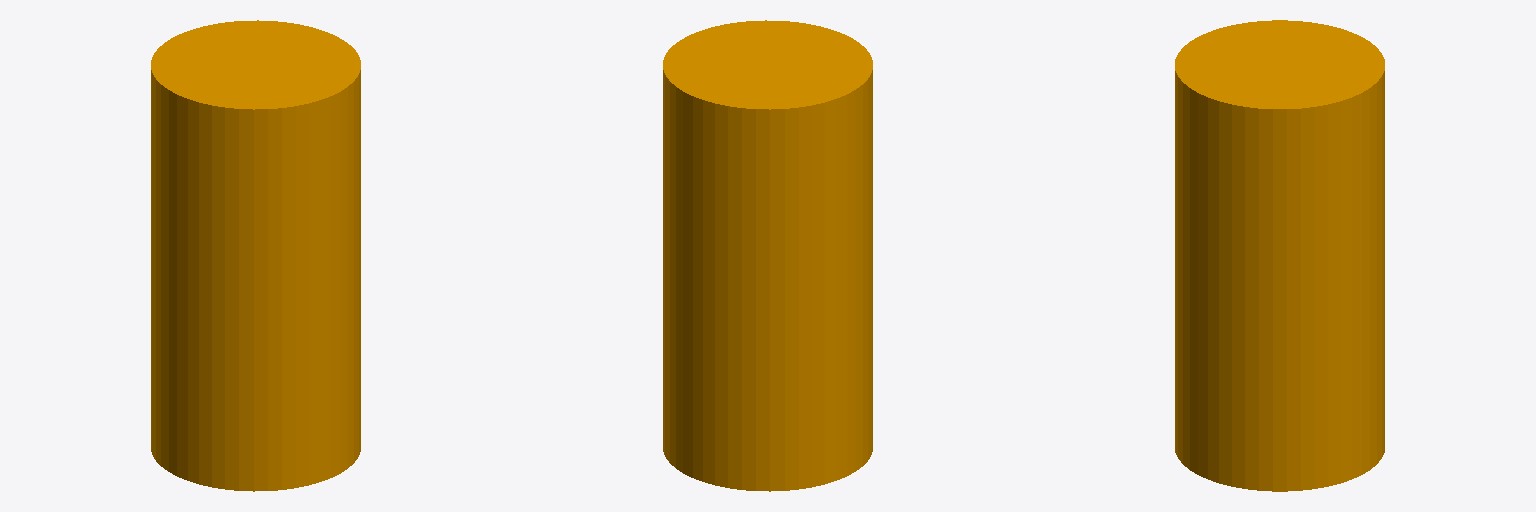
robot.urdf — 2v2_mod_cuboid_small:
<?xml version="1.0" ?>
<robot name="2v2_mod_cuboid_small">

    <link name="2v2_mod_cuboid_small">
        <visual>
        <origin rpy="1.5707963267948966 0 0" xyz="0 0 0"/>
            <geometry>
                <mesh filename="obj_files/alt_small_cylinder2.obj" scale="1 1 1"/>
            </geometry>
        </visual>
        <collision>
                <origin rpy="1.5707963267948966 0 0" xyz="0 0 0"/>
            <geometry>
                <mesh filename="obj_files/alt_small_cylinder2.obj" scale="1 1 1"/>
            </geometry>
        </collision>
        <inertial>
            <mass value="0.00001"/>
            <inertia ixx="0.00002535" ixy="0.0" ixz="0.0" iyy="0.00002535" iyz="0.0" izz="0.000089475"/>
        </inertial>
    </link>

</robot>

--- Render facts (derived) ---
Views: 3 orthographic renders of the robot side by side, from view 1: azimuth 30°, elevation 25°; view 2: azimuth 150°, elevation 25°; view 3: azimuth 270°, elevation 25°.
Model 2v2_mod_cuboid_small with 1 links and 0 joints (none), rooted at 2v2_mod_cuboid_small, posed every joint at zero.
Visible links, largest first — view 1: 2v2_mod_cuboid_small; view 2: 2v2_mod_cuboid_small; view 3: 2v2_mod_cuboid_small.
Boxes of the visible links, x1,y1,x2,y2 form: 2v2_mod_cuboid_small: (151,20,360,491); 2v2_mod_cuboid_small: (663,20,872,491); 2v2_mod_cuboid_small: (1175,20,1384,491).
Bounding box of the posed robot: 0.0507 × 0.0508 × 0.1016 m (x, y, z).
1 mesh visuals loaded from 1 distinct referenced files (1 OBJ).